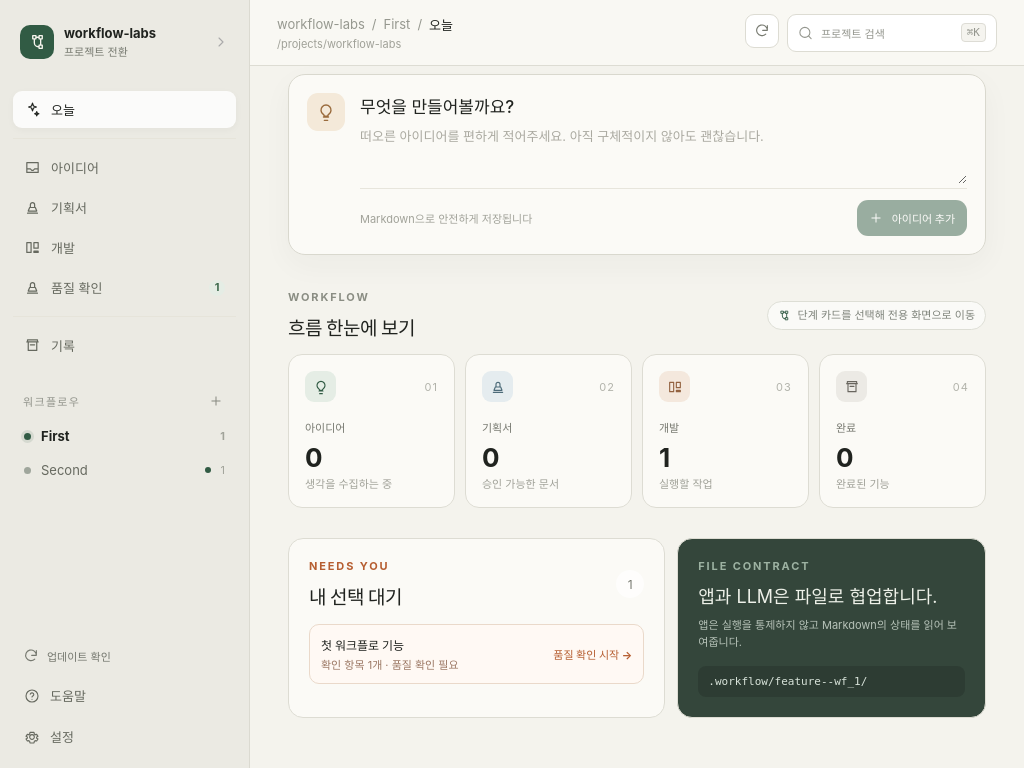
Test: WorkspaceShell › does not carry a Today QA deep link into another workflow with the same group id
(page scrolled)
Click the button "첫 워크플로 기능 확인 항목 1개 · 품질 확인 필요 품질 확인 시작 →" at (362, 646), box x1=309 y1=624 x2=644 y2=684
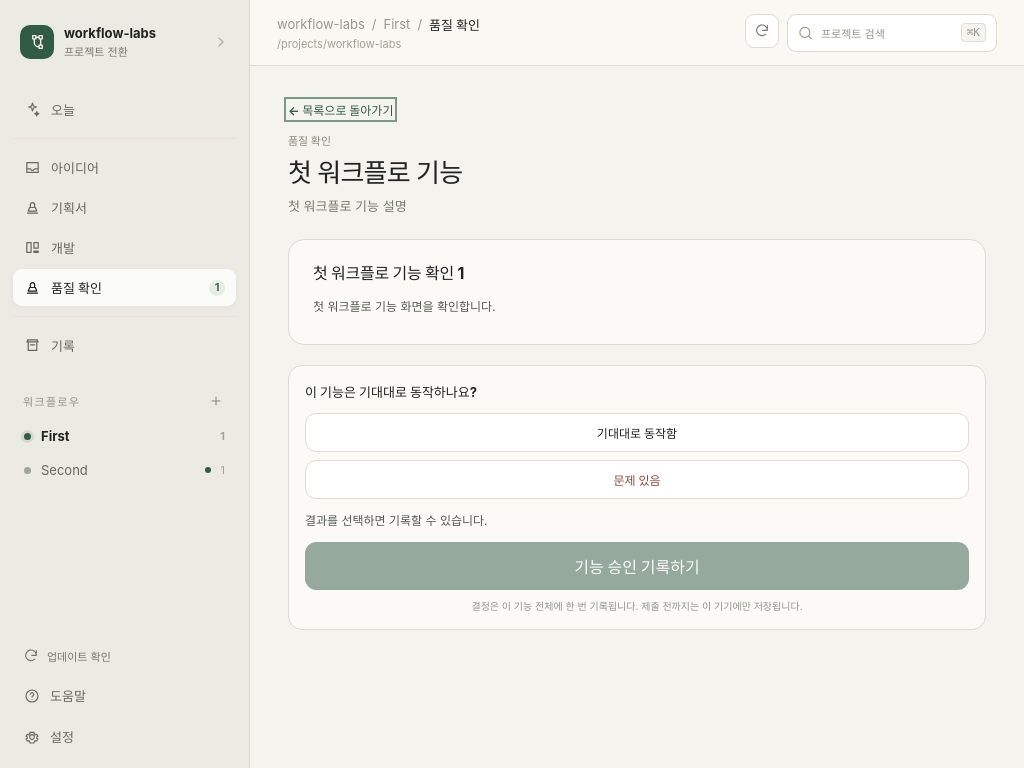
Result: the heading "첫 워크플로 기능" is shown at x1=288 y1=157 x2=462 y2=188
Click the button "Second 1" at (124, 470), box x1=13 y1=453 x2=236 y2=487
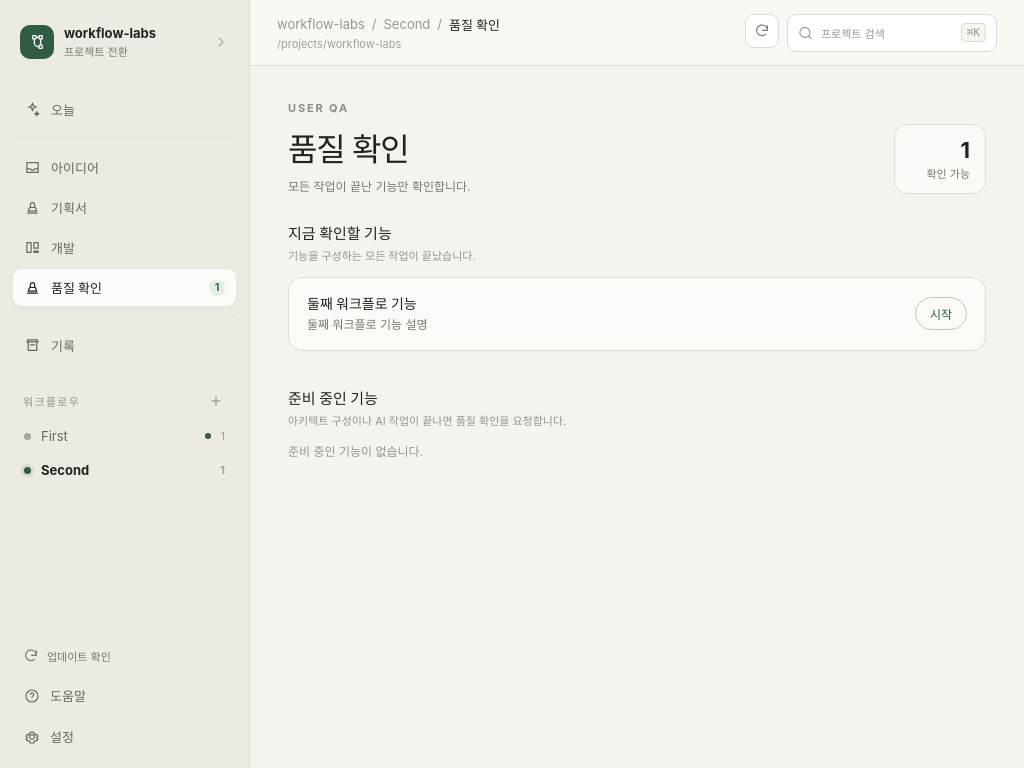
Result: the element "지금 확인할 기능" is shown at x1=288 y1=222 x2=986 y2=351
Result: the button "둘째 워크플로 기능 둘째 워크플로 기능 설명 시작" is shown at x1=288 y1=277 x2=986 y2=351
